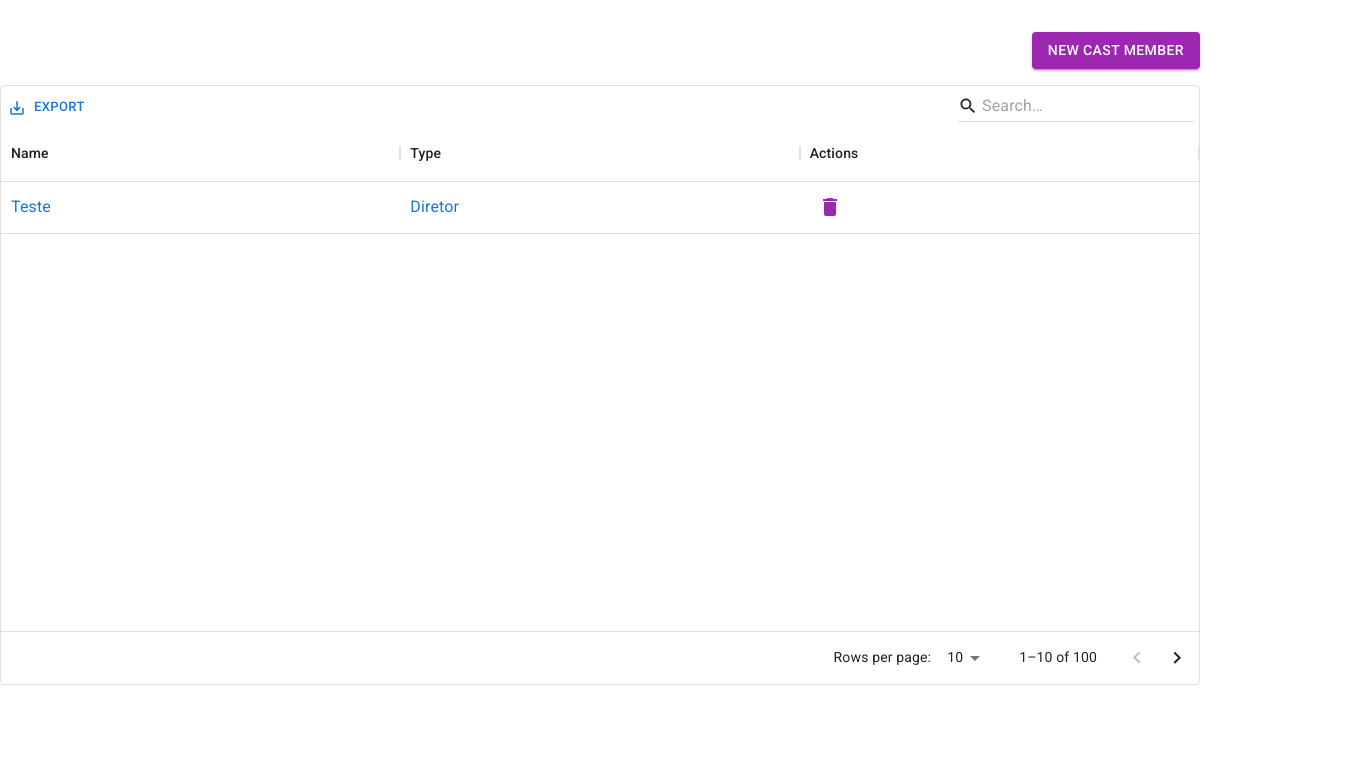
Test: ListCastmembers › should handle Delete Category success
The image size is (1366, 768).
Expected: the text "Teste" is shown, 11,195 -> 51,219
Step 1. Click the button with test id "delete-button" → (830, 207), box 810,187 -> 850,227
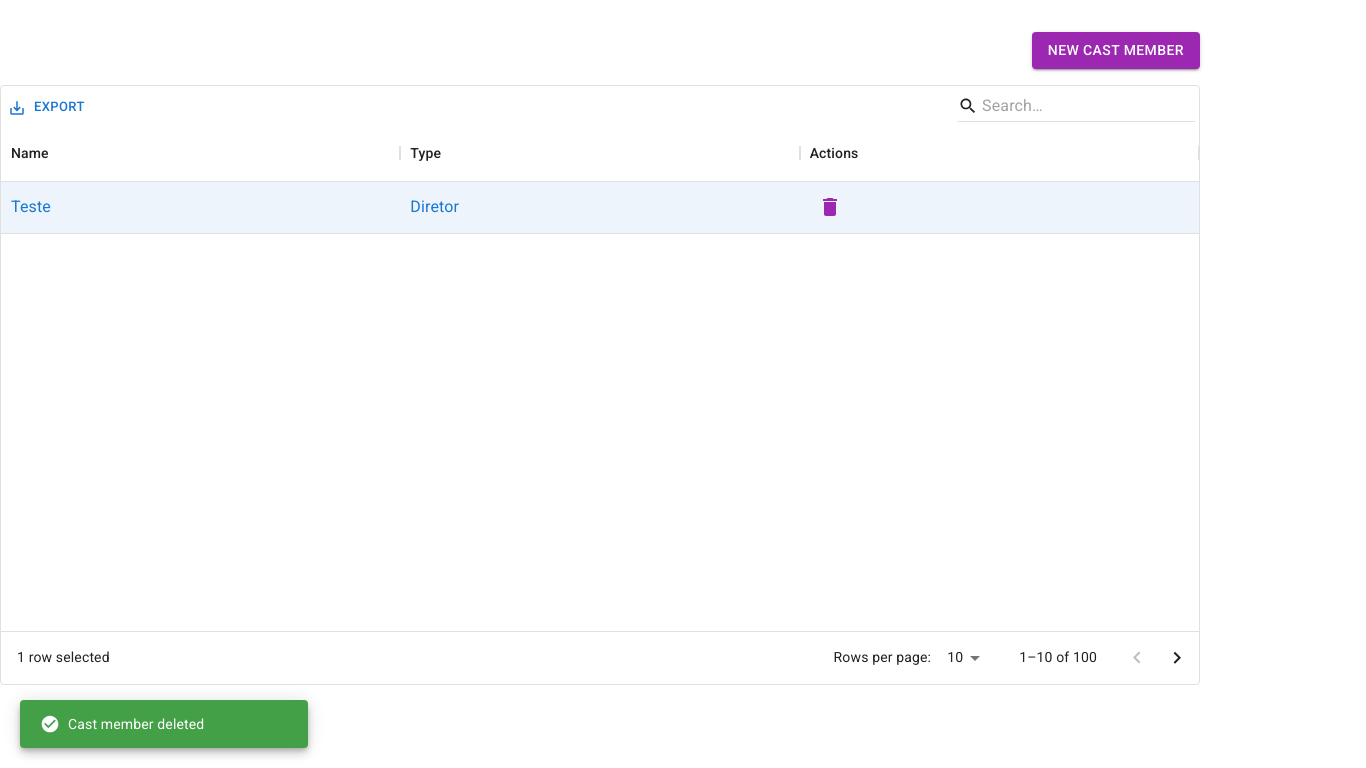
Expected: the text "Cast member deleted" is shown, 40,714 -> 204,734
